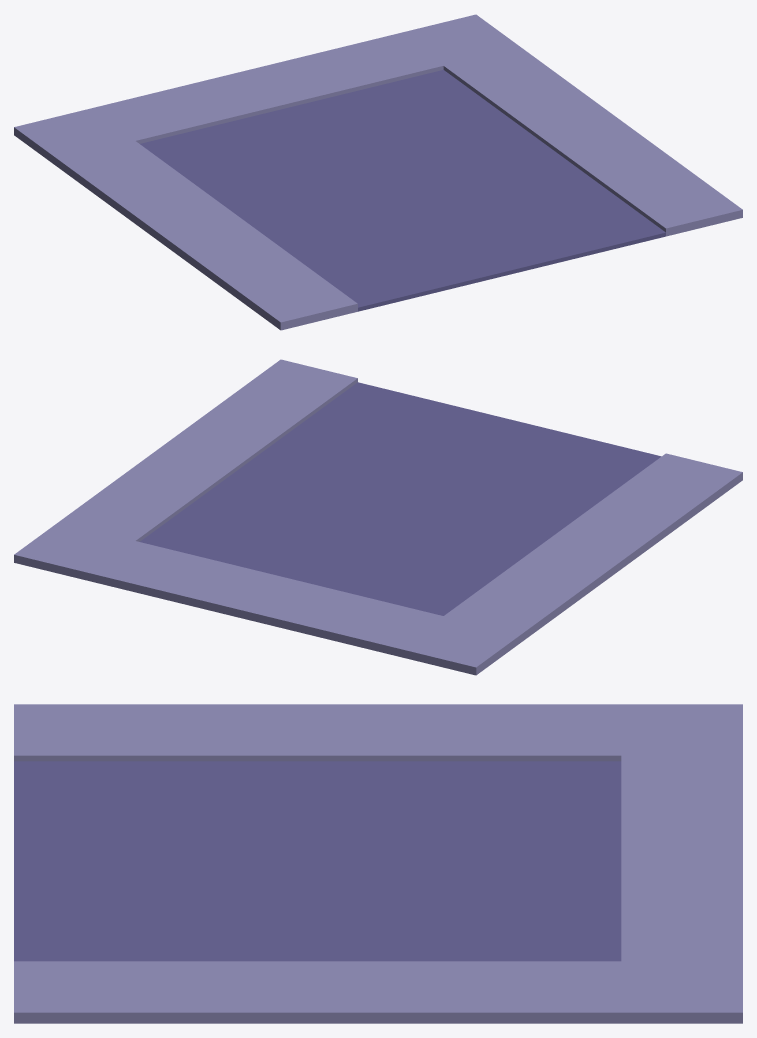
Rendered from Road_End3.fbx.
3 views of the same model, one above another, from view 1: azimuth 30°, elevation 25°; view 2: azimuth 150°, elevation 25°; view 3: azimuth 270°, elevation 25° (orthographic). The views are drawn at different scales.
Visible parts, largest first — view 1: mergedBlocks; view 2: mergedBlocks; view 3: mergedBlocks.
Part boxes in pixels (x1,y1,x2,y2): mergedBlocks: [14, 14, 742, 330]; mergedBlocks: [14, 359, 742, 675]; mergedBlocks: [14, 704, 742, 1023].
Bounding box in the file's own units: 150 × 2.5 × 150.
